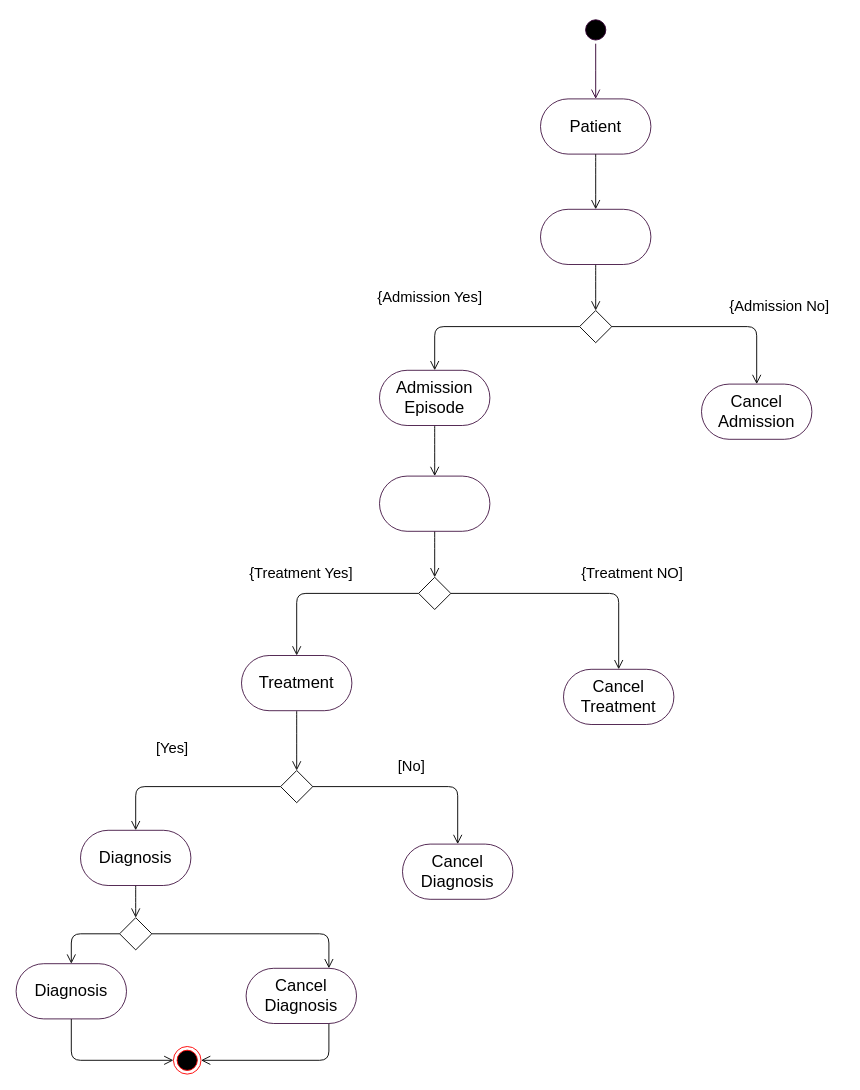
Image size: 860x1090. Some labels were removed from this diagram. Here are the shapes that lost their labels. From the top down, the centre of each, then its label:
(595,236): Community Doctor
(434,503): Hospital Doctor
